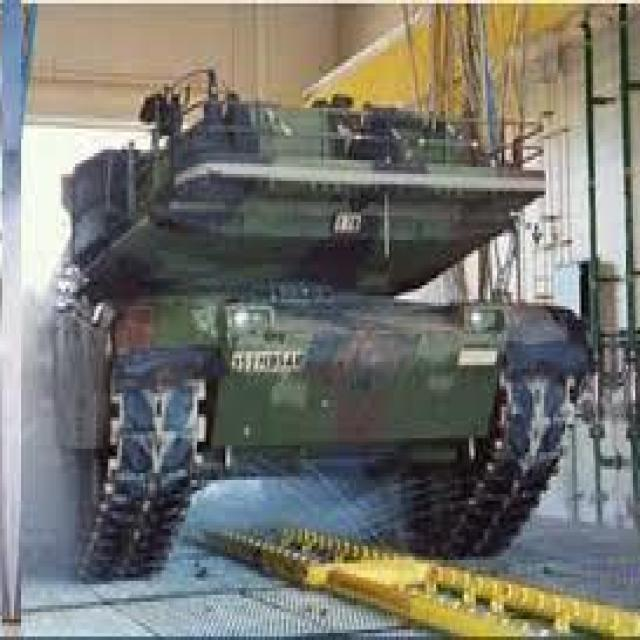Tanks: (31, 82, 568, 582)
